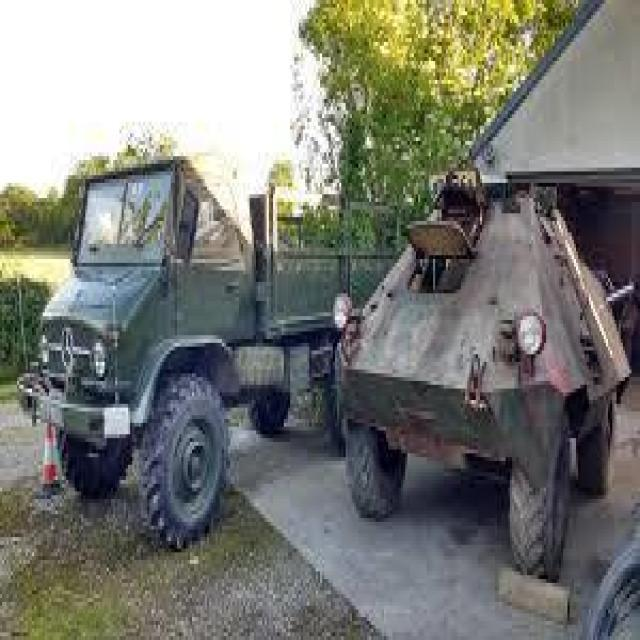MIL_MBT: (358, 131, 634, 577)
